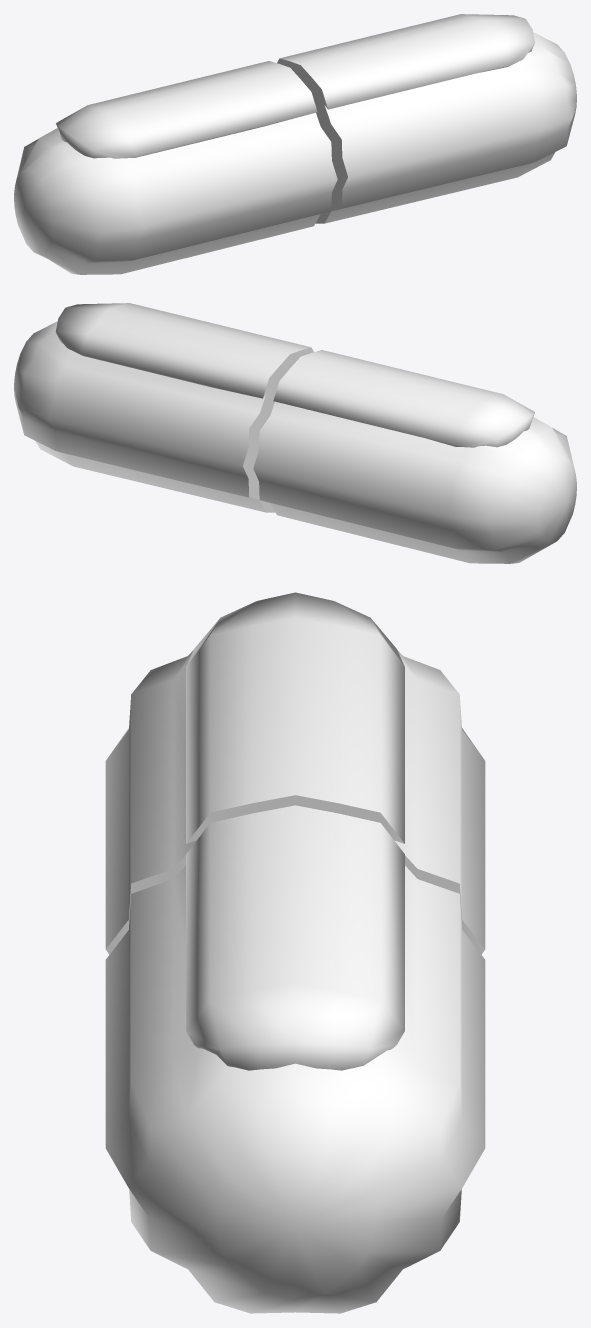
The model's file is Eclair_half_01.fbx.
3 renders of one model, top to bottom at view 1: azimuth 30°, elevation 25°; view 2: azimuth 150°, elevation 25°; view 3: azimuth 270°, elevation 25°, orthographic. The views are drawn at different scales.
Visible parts, largest first — view 1: Eclair_half_01.1, Eclair_half_01; view 2: Eclair_half_01.1, Eclair_half_01; view 3: Eclair_half_01, Eclair_half_01.1.
Part boxes in pixels (x1=…): Eclair_half_01.1: x1=14, y1=61, x2=337, y2=274; Eclair_half_01: x1=277, y1=14, x2=576, y2=223; Eclair_half_01.1: x1=253, y1=350, x2=576, y2=563; Eclair_half_01: x1=14, y1=303, x2=313, y2=512; Eclair_half_01: x1=105, y1=805, x2=485, y2=1313; Eclair_half_01.1: x1=105, y1=592, x2=485, y2=954.
Size of the model in its own units: 208 by 54.76 by 62.89.
